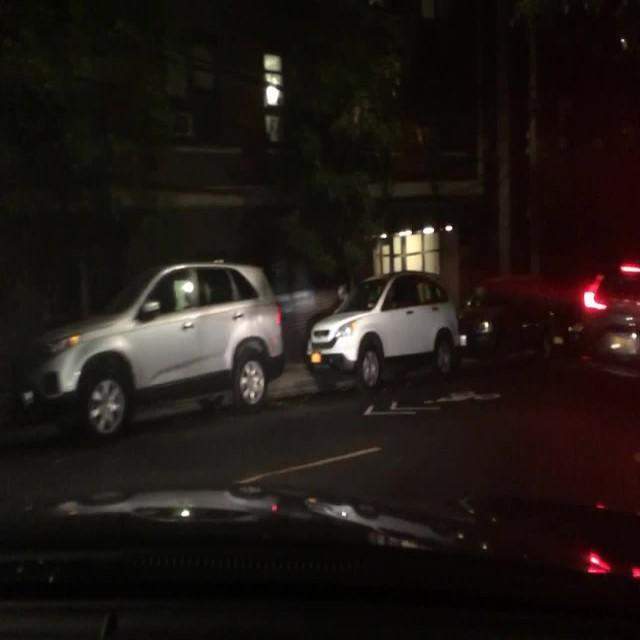normal: (15, 209, 475, 460)
